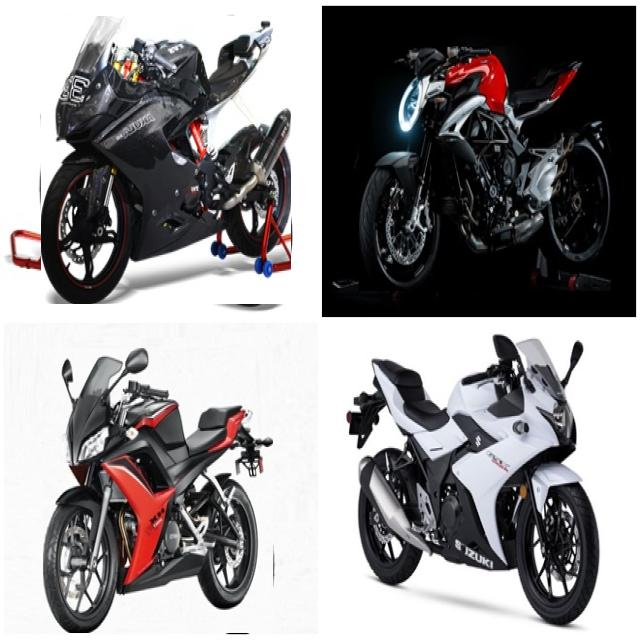motorcycle: (346, 336, 599, 624), (41, 17, 291, 304), (44, 348, 273, 633), (359, 47, 611, 291)
